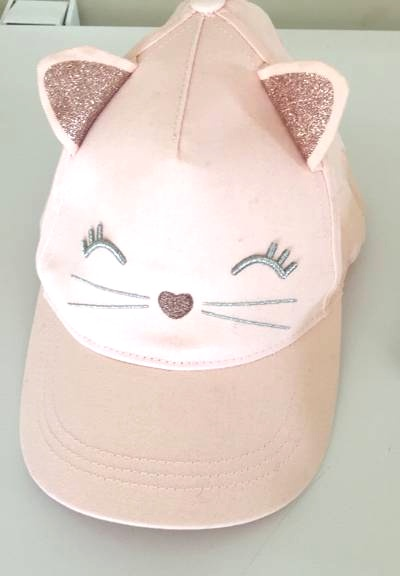Hat: (17, 3, 383, 538)
